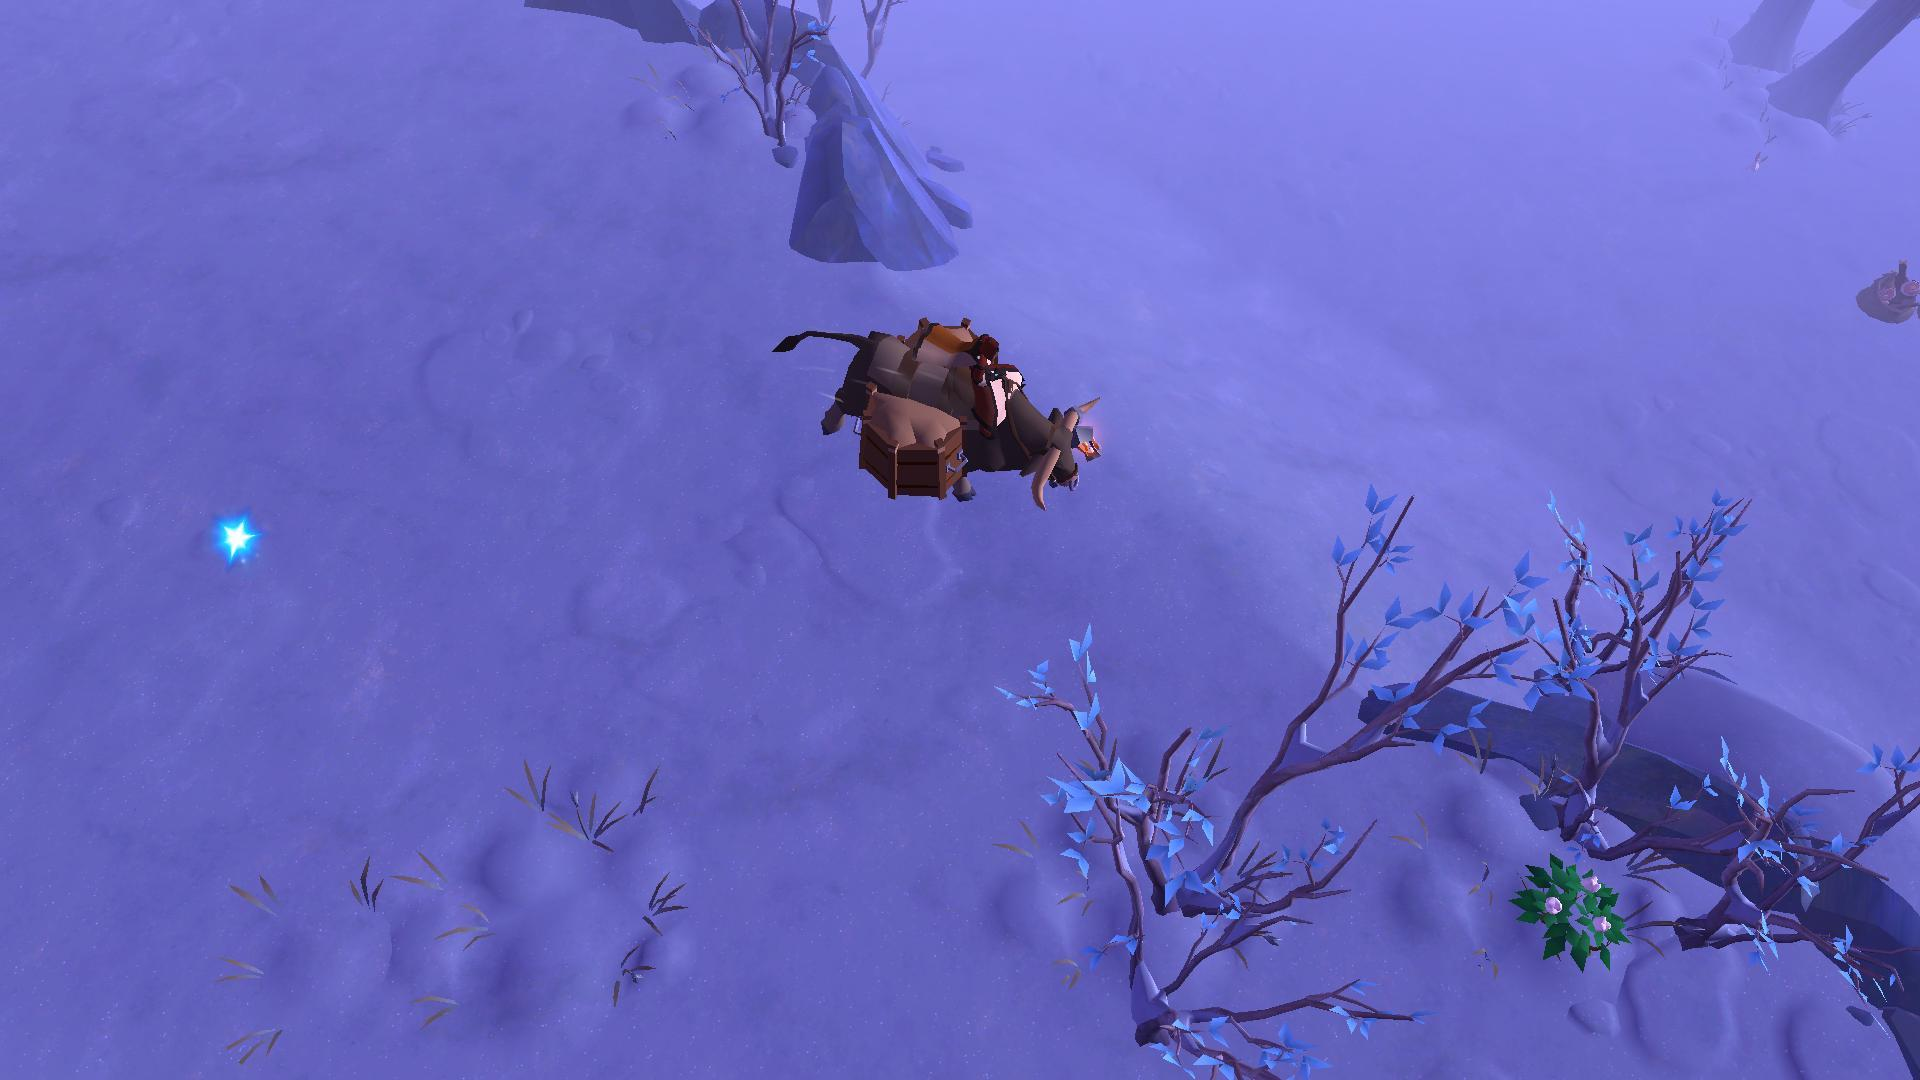fiber_t3: (1520, 857, 1626, 968)
